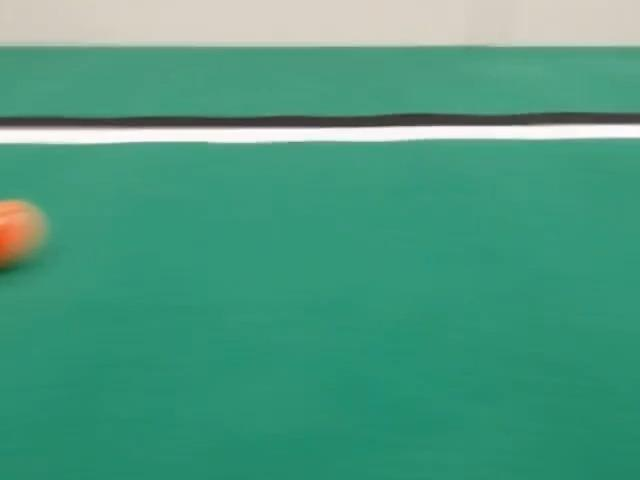Ball: (0, 200, 46, 268)
